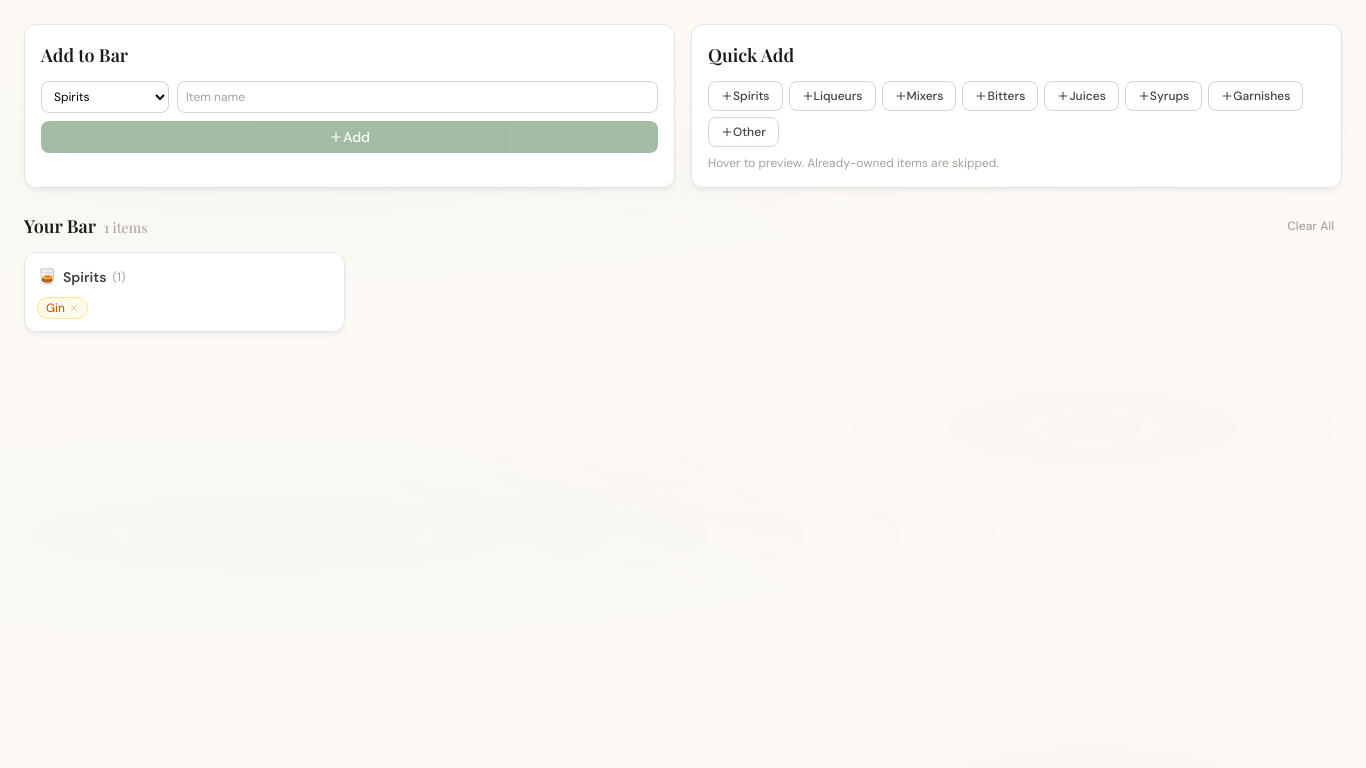
Scenario: BarInventory › Clear All: two-step confirmation then DELETE /bar-items/all reveals the empty state
This screenshot has width=1366, height=768.
Check: the text "Gin" is shown, box [37,297,88,319]
First click reveals the confirmation prompt, no request yet.
Step 1. Click the button "Clear All" → point(1311, 226), box [1279,214,1342,238]
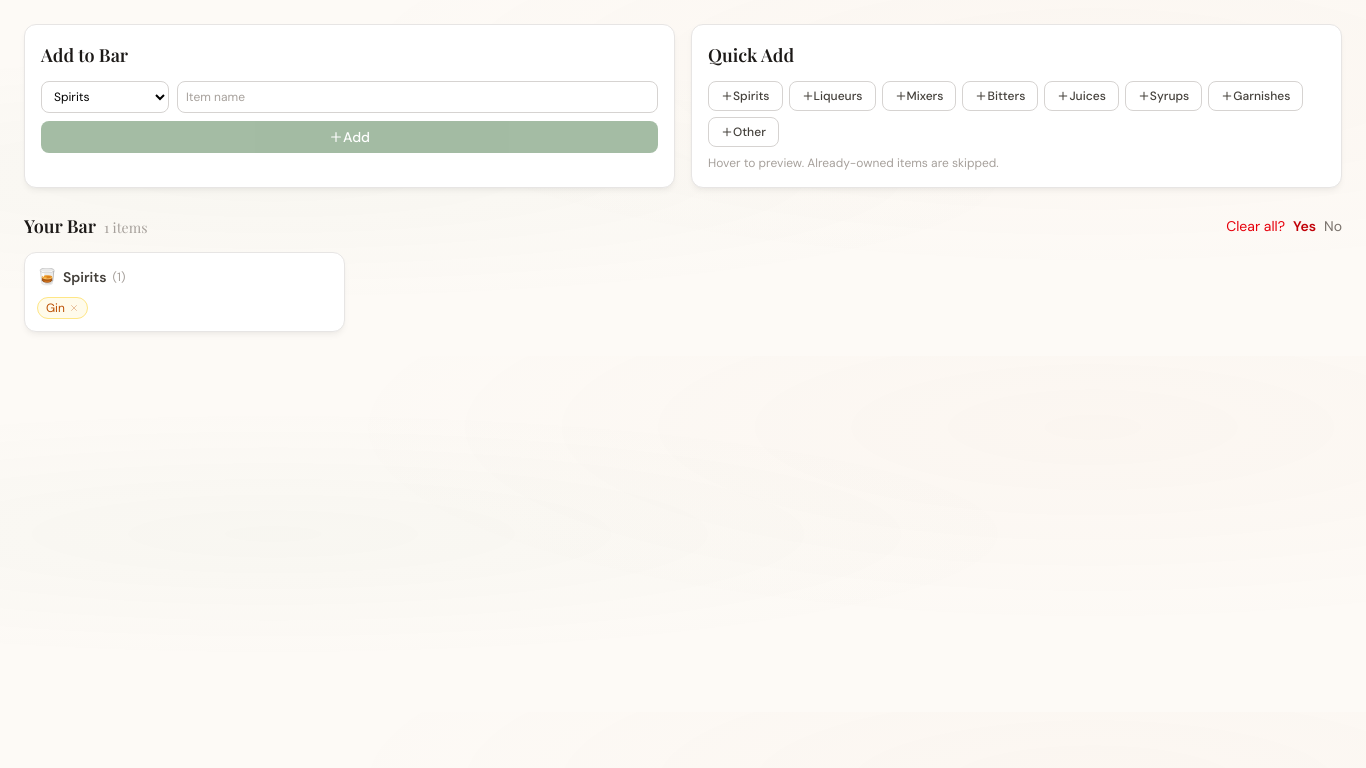
Check: the text "Clear all?" is shown, box [1226,216,1285,236]
Step 2. Click the button "Yes" → point(1304, 226), box [1293,216,1316,236]
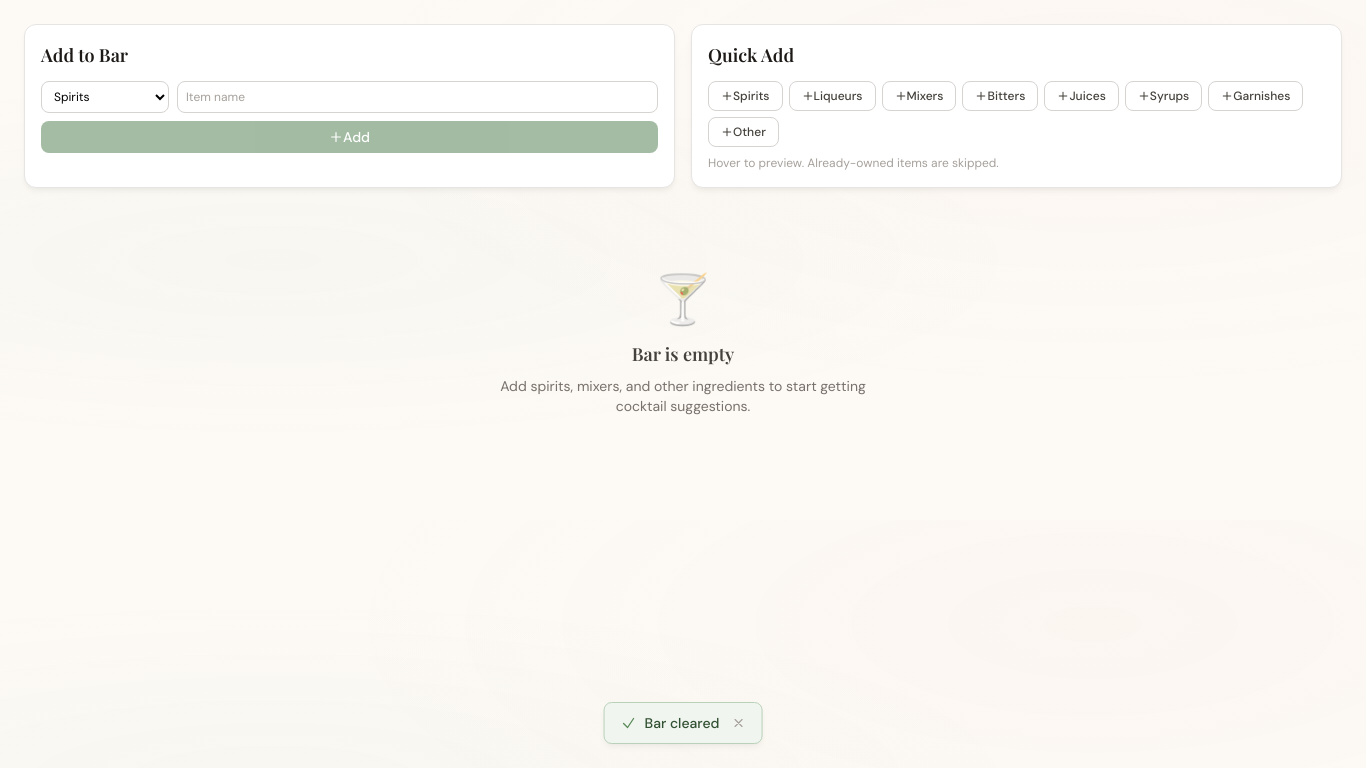
Check: the heading "Bar is empty" is shown, box [632,342,734,366]
Check: the text "Gin" is gone
